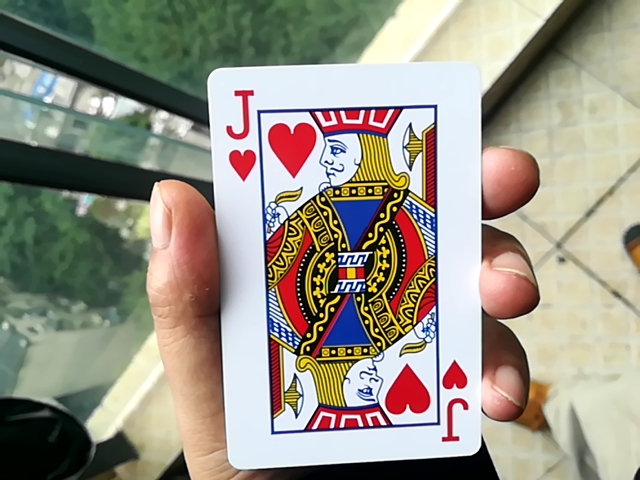hx j: (195, 65, 496, 476)
